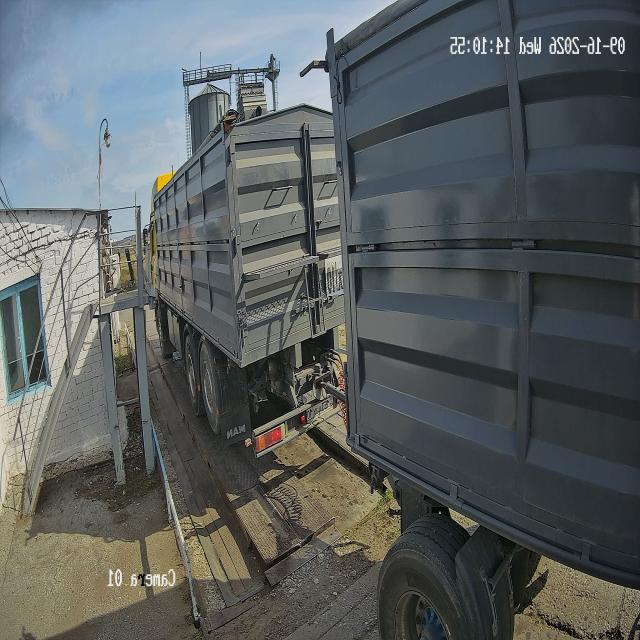license plate: (306, 397, 333, 423), (325, 258, 344, 294)
trailer: (320, 40, 640, 573), (157, 181, 158, 184)
truck: (150, 105, 344, 455)
